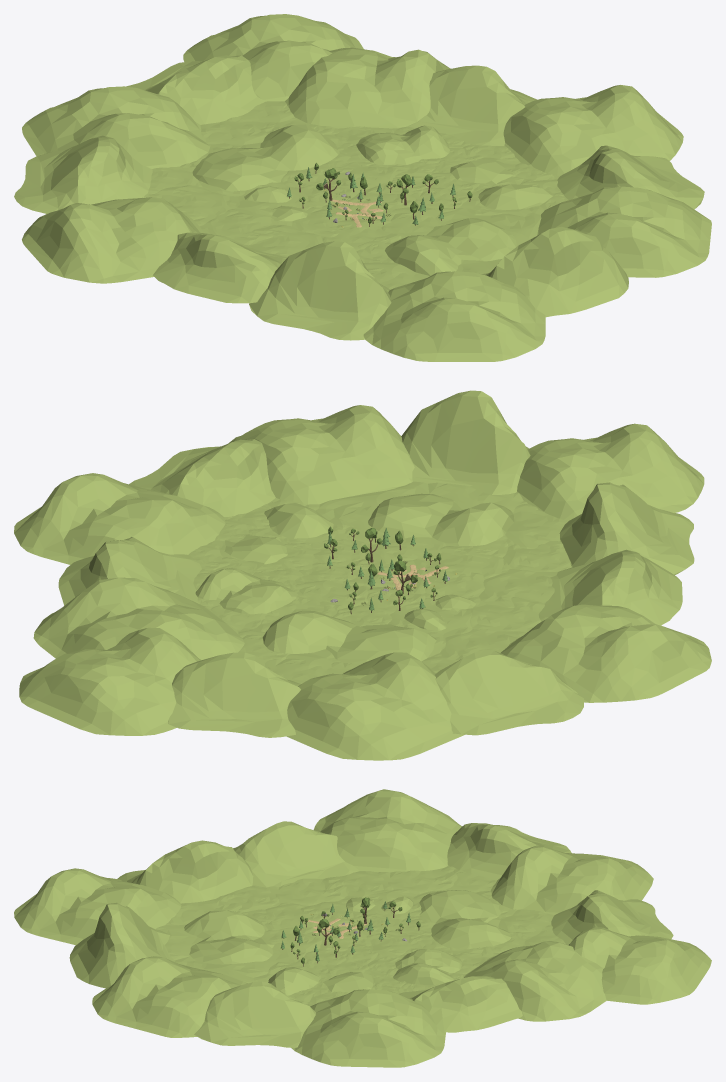
Rendered from forest.glb.
The picture shows the model from 3 angles, top to bottom: view 1: azimuth 30°, elevation 25°; view 2: azimuth 150°, elevation 25°; view 3: azimuth 270°, elevation 25°; orthographic projection. The views are drawn at different scales.
Parts seen in each view (by area): view 1: rpgpp_lt_hill_small_02__2_, rpgpp_lt_hill_small_02__4_, rpgpp_lt_hill_small_02__1_, rpgpp_lt_hill_small_02__3_, rpgpp_lt_hill_small_02, rpgpp_lt_hill_small_02__5_, rpgpp_lt_hill_small_01__2_, rpgpp_lt_hill_small_01__3_, rpgpp_lt_hill_small_02__6_, rpgpp_lt_hill_small_01__5_, rpgpp_lt_hill_small_01__4_, rpgpp_lt_hill_small_01 (+28 smaller); view 2: rpgpp_lt_hill_small_02__5_, rpgpp_lt_hill_small_02__4_, rpgpp_lt_hill_small_02__6_, rpgpp_lt_hill_small_02__1_, rpgpp_lt_hill_small_02__3_, rpgpp_lt_hill_small_02__2_, rpgpp_lt_hill_small_02, rpgpp_lt_hill_small_01__3_, rpgpp_lt_hill_small_01__5_, rpgpp_lt_hill_small_01__6_, rpgpp_lt_hill_small_01__2_, rpgpp_lt_hill_small_01__1_ (+30 smaller); view 3: rpgpp_lt_hill_small_02__1_, rpgpp_lt_hill_small_02__4_, rpgpp_lt_hill_small_02__3_, rpgpp_lt_hill_small_02__5_, rpgpp_lt_hill_small_02__6_, rpgpp_lt_hill_small_02__2_, rpgpp_lt_hill_small_02, rpgpp_lt_hill_small_01__1_, rpgpp_lt_hill_small_01__4_, rpgpp_lt_hill_small_01__2_, rpgpp_lt_hill_small_01__3_, rpgpp_lt_hill_small_01 (+29 smaller).
Boxes of the visible parts, x1,y1,x2,y2 form: rpgpp_lt_hill_small_02__2_: (363, 271, 545, 361); rpgpp_lt_hill_small_02__4_: (22, 197, 204, 283); rpgpp_lt_hill_small_02__1_: (503, 85, 683, 175); rpgpp_lt_hill_small_02__3_: (537, 186, 711, 277); rpgpp_lt_hill_small_02: (285, 47, 450, 128); rpgpp_lt_hill_small_02__5_: (22, 86, 210, 168); rpgpp_lt_hill_small_01__2_: (249, 241, 391, 340); rpgpp_lt_hill_small_01__3_: (481, 226, 628, 317); rpgpp_lt_hill_small_02__6_: (183, 14, 363, 101); rpgpp_lt_hill_small_01__5_: (14, 135, 152, 213); rpgpp_lt_hill_small_01__4_: (153, 232, 287, 303); rpgpp_lt_hill_small_01: (407, 65, 536, 145); rpgpp_lt_hill_small_02__5_: (286, 652, 464, 760); rpgpp_lt_hill_small_02__4_: (500, 604, 711, 702); rpgpp_lt_hill_small_02__6_: (19, 627, 200, 735); rpgpp_lt_hill_small_02__1_: (14, 473, 225, 564); rpgpp_lt_hill_small_02__3_: (228, 405, 414, 504); rpgpp_lt_hill_small_02__2_: (516, 423, 704, 520); rpgpp_lt_hill_small_02: (33, 577, 244, 660); rpgpp_lt_hill_small_01__3_: (401, 390, 530, 494); rpgpp_lt_hill_small_01__5_: (435, 649, 583, 735); rpgpp_lt_hill_small_01__6_: (168, 652, 300, 737); rpgpp_lt_hill_small_01__2_: (559, 482, 694, 574); rpgpp_lt_hill_small_01__1_: (129, 439, 275, 516); rpgpp_lt_hill_small_02__1_: (291, 989, 445, 1067); rpgpp_lt_hill_small_02__4_: (313, 789, 461, 872); rpgpp_lt_hill_small_02__3_: (92, 956, 247, 1037); rpgpp_lt_hill_small_02__5_: (490, 845, 653, 915); rpgpp_lt_hill_small_02__6_: (568, 927, 711, 1004); rpgpp_lt_hill_small_02__2_: (14, 868, 181, 945); rpgpp_lt_hill_small_02: (464, 941, 606, 1021); rpgpp_lt_hill_small_01__1_: (194, 981, 315, 1047); rpgpp_lt_hill_small_01__4_: (233, 821, 359, 887); rpgpp_lt_hill_small_01__2_: (117, 840, 253, 903); rpgpp_lt_hill_small_01__3_: (69, 902, 174, 988); rpgpp_lt_hill_small_01: (399, 976, 522, 1032).
Size of the model in its own units: 446 by 59.53 by 505.
Materials: 1 (1 with a texture image).
